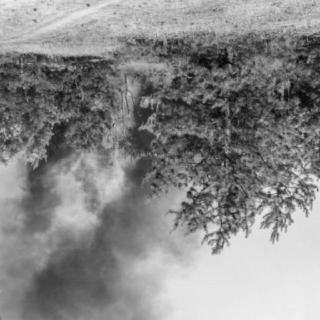Fire: (84, 63, 180, 173), (42, 64, 80, 77)
other: (33, 182, 171, 318), (11, 138, 76, 238)
